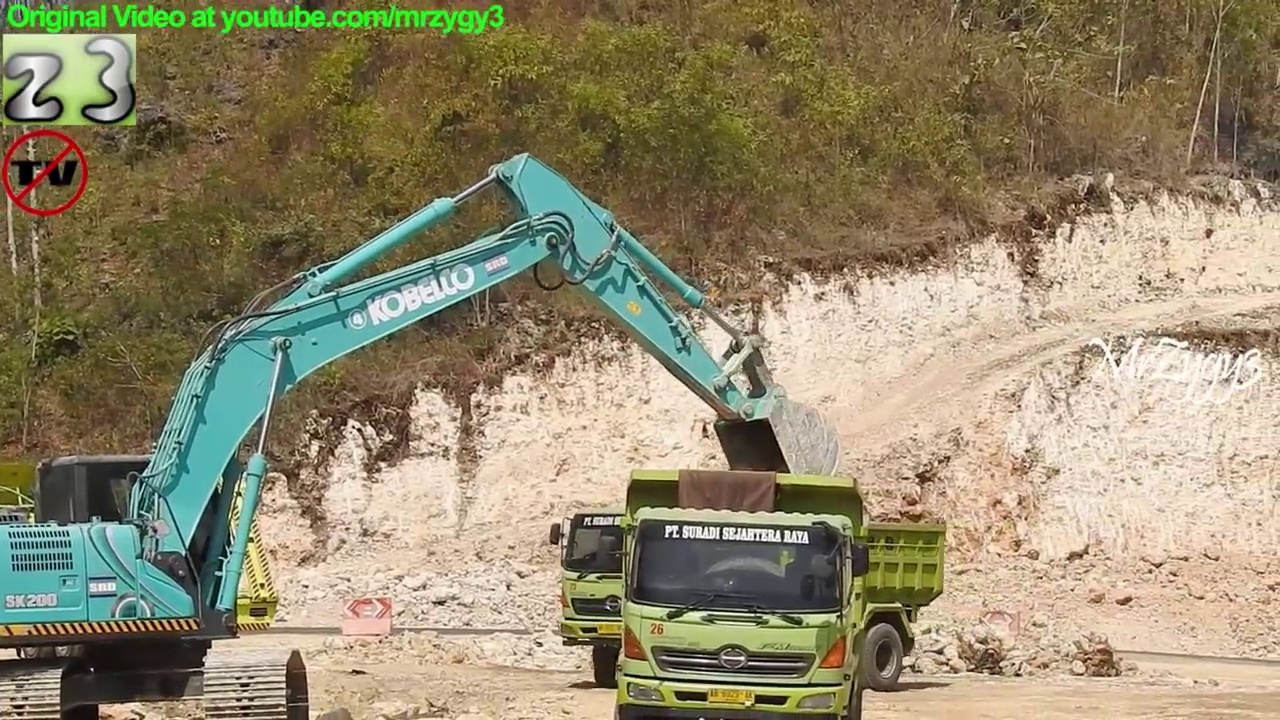excavator: (1, 148, 844, 720)
truck: (546, 498, 950, 696), (596, 465, 870, 720), (1, 449, 282, 664)
